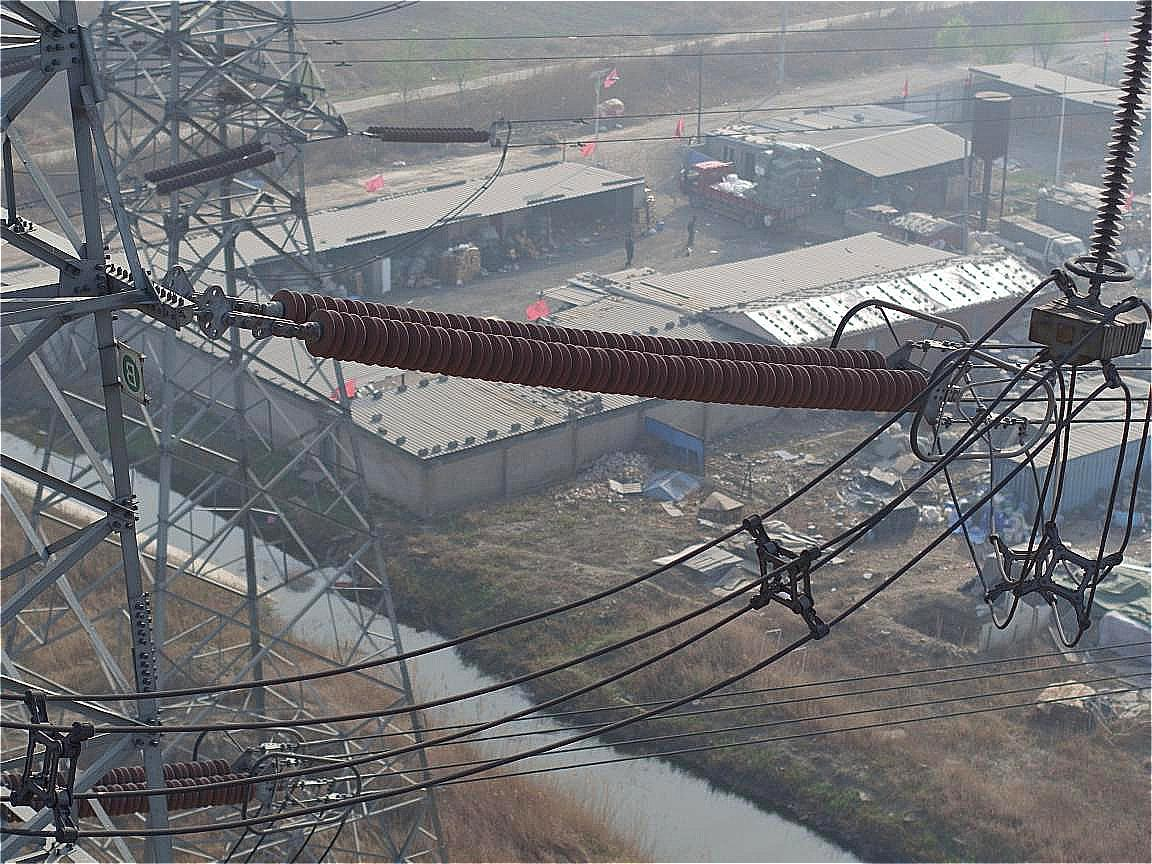insultor1: (1091, 4, 1152, 268)
insultor2: (268, 265, 978, 441)
